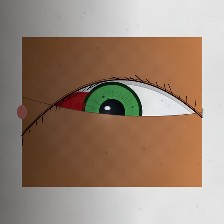hemorrhage_spot: (38, 64, 131, 139)
